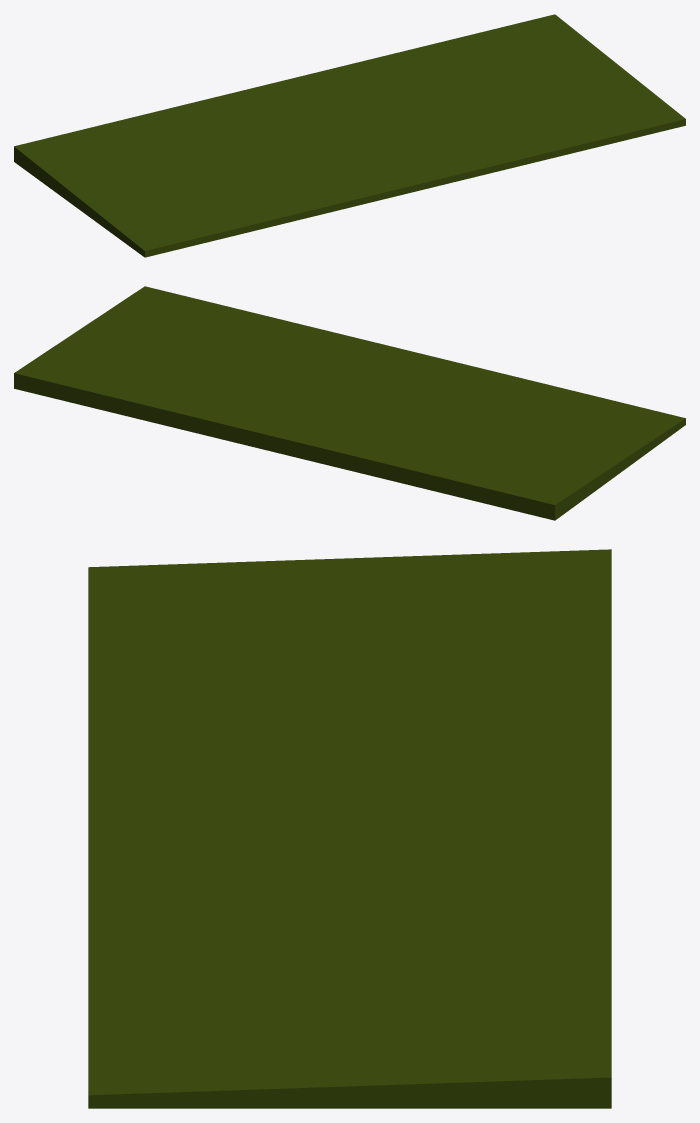
Rendered from Keyboard_M.fbx.
The picture shows the model from 3 angles, top to bottom: view 1: azimuth 30°, elevation 25°; view 2: azimuth 150°, elevation 25°; view 3: azimuth 270°, elevation 25°; orthographic projection. The views are drawn at different scales.
Parts seen in each view (by area): view 1: Keyboard; view 2: Keyboard; view 3: Keyboard.
Part boxes in pixels (x1,y1,x2,y2): Keyboard: [14, 14, 685, 257]; Keyboard: [14, 286, 685, 520]; Keyboard: [88, 549, 611, 1108].
Bounding box in the file's own units: 0.1949 × 0.00535 × 0.0817.
